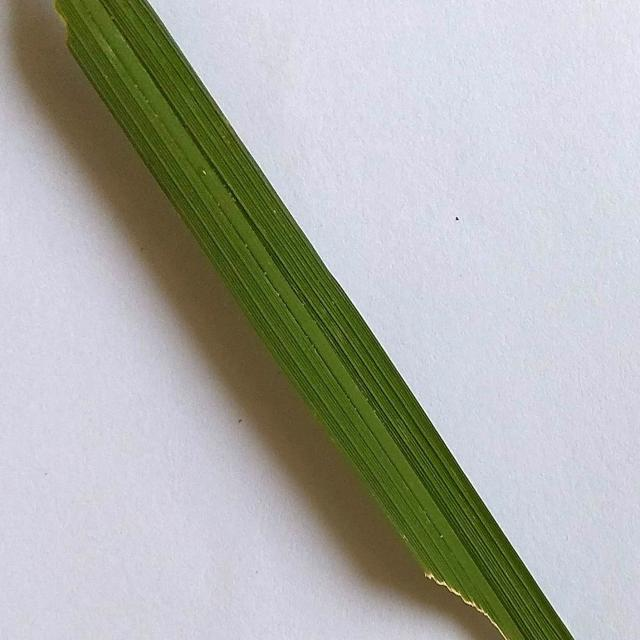Rice_Healthy: (55, 0, 573, 640)
